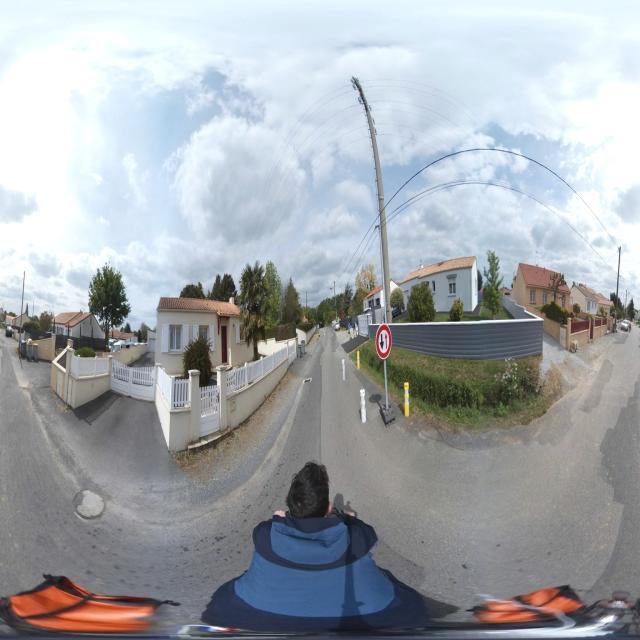car: (4, 323, 14, 338), (621, 318, 630, 332)
